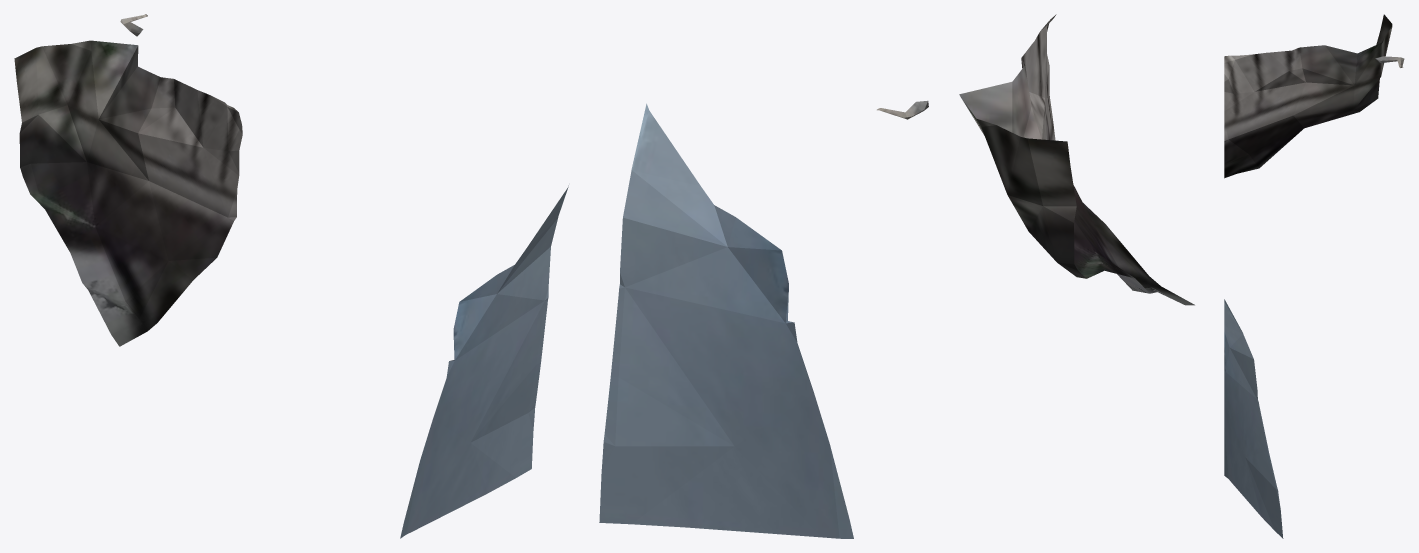
3 views of the same model, side by side, from view 1: azimuth 30°, elevation 25°; view 2: azimuth 150°, elevation 25°; view 3: azimuth 270°, elevation 25° (orthographic). The views are drawn at different scales.
Bounding box in the file's own units: 1.67 × 1.67 × 0.7632.
1 material, 1 textured.
